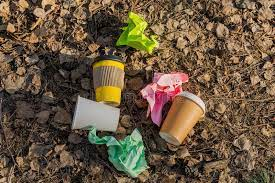cup: (159, 91, 205, 147), (90, 54, 126, 107)
